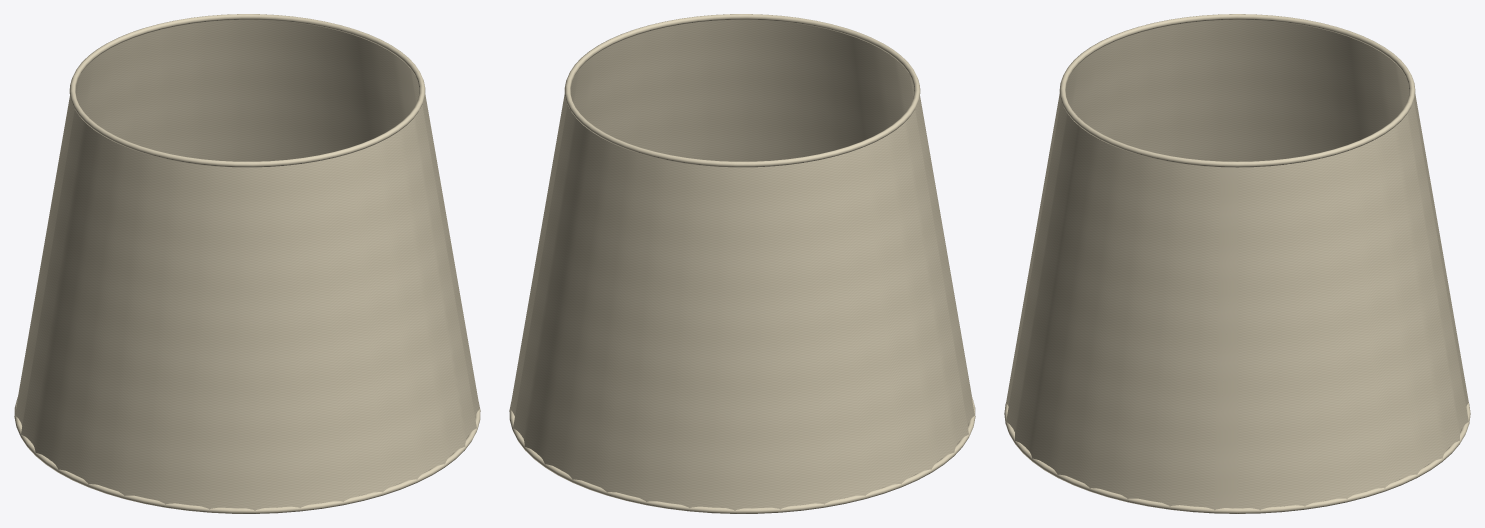
Rendered from pendant-lamp.glb.
3 views of the same model, side by side, from view 1: azimuth 30°, elevation 25°; view 2: azimuth 150°, elevation 25°; view 3: azimuth 270°, elevation 25° (orthographic).
Parts seen in each view (by area): view 1: pendant-lamp-mesh; view 2: pendant-lamp-mesh; view 3: pendant-lamp-mesh.
Part boxes in pixels (x1,y1,x2,y2): pendant-lamp-mesh: [14, 14, 480, 513]; pendant-lamp-mesh: [509, 14, 975, 513]; pendant-lamp-mesh: [1004, 14, 1470, 513].
Size of the model in its own units: 0.45 by 0.35 by 0.45.
1 material, 1 textured.
